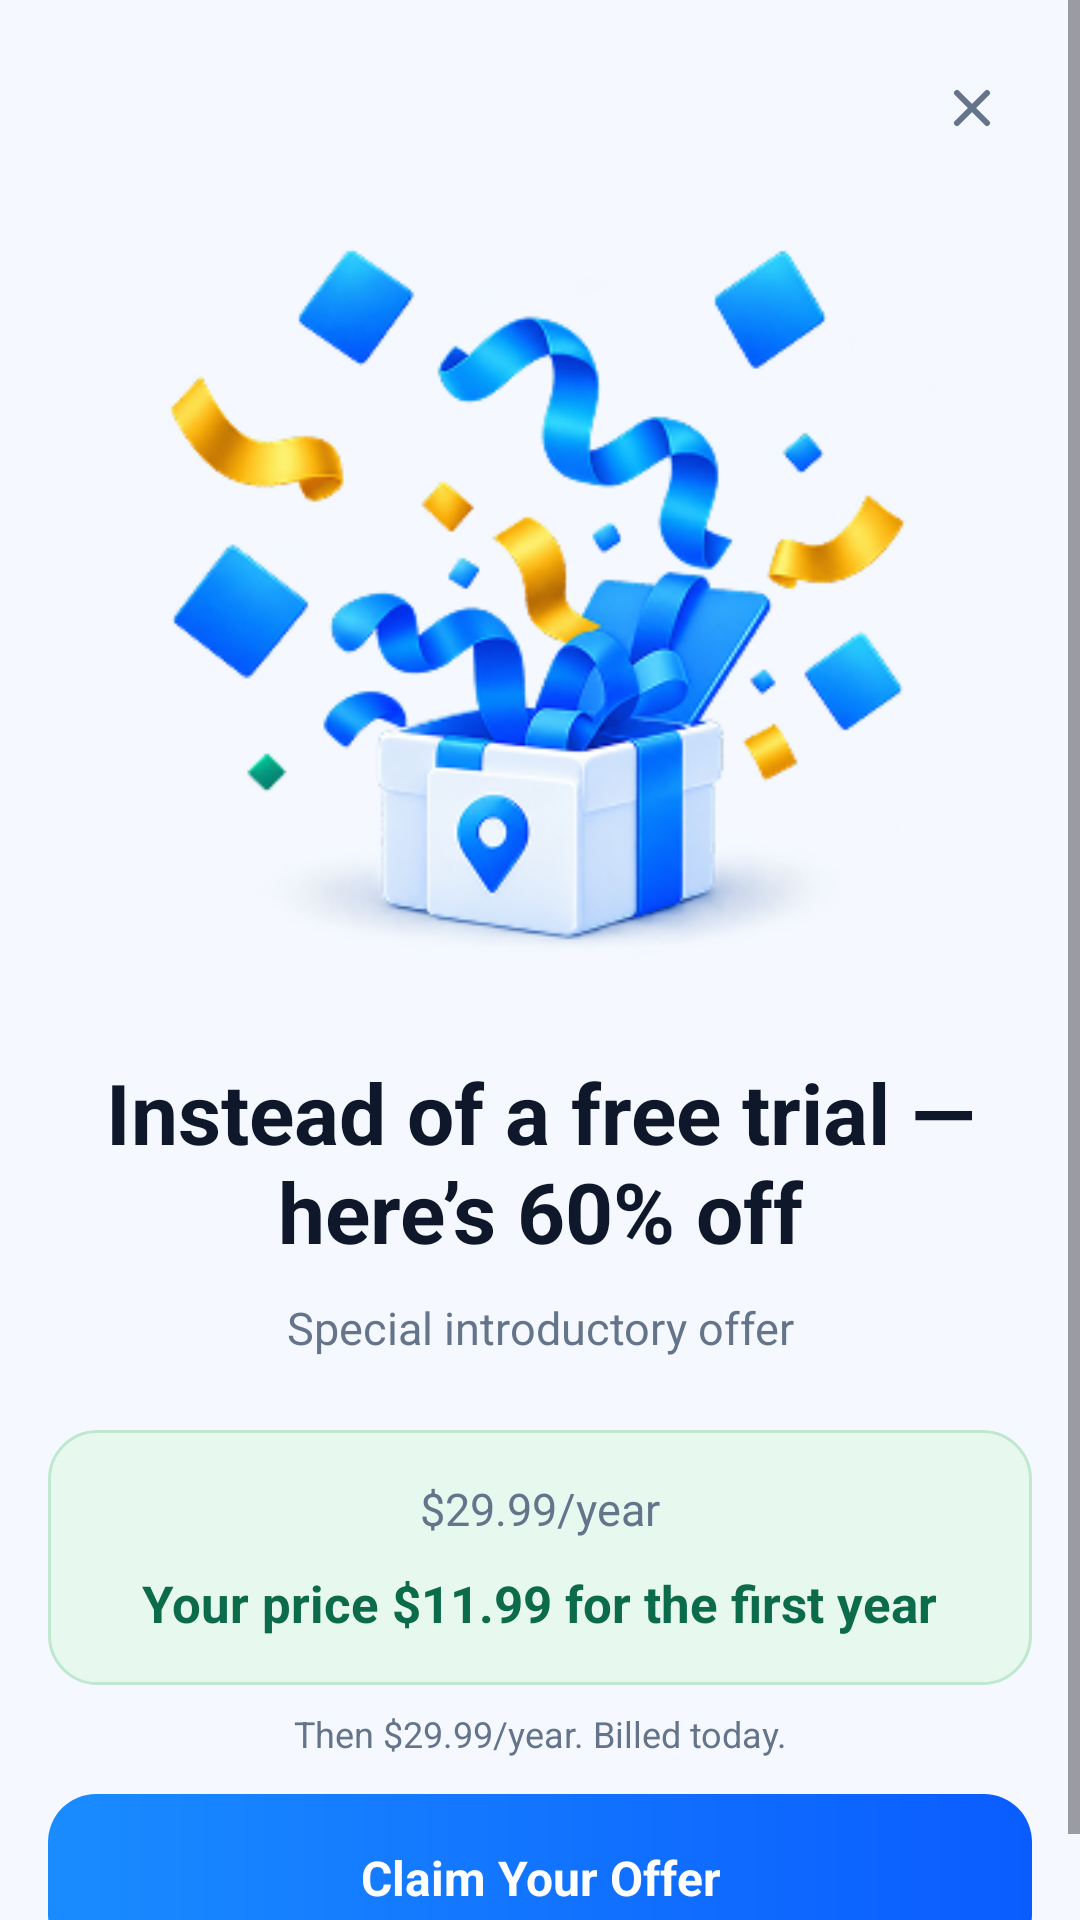

Where to tap for icons on this 1080 x 1920 app screen, as point (x, y):
Close: point (972, 108)
